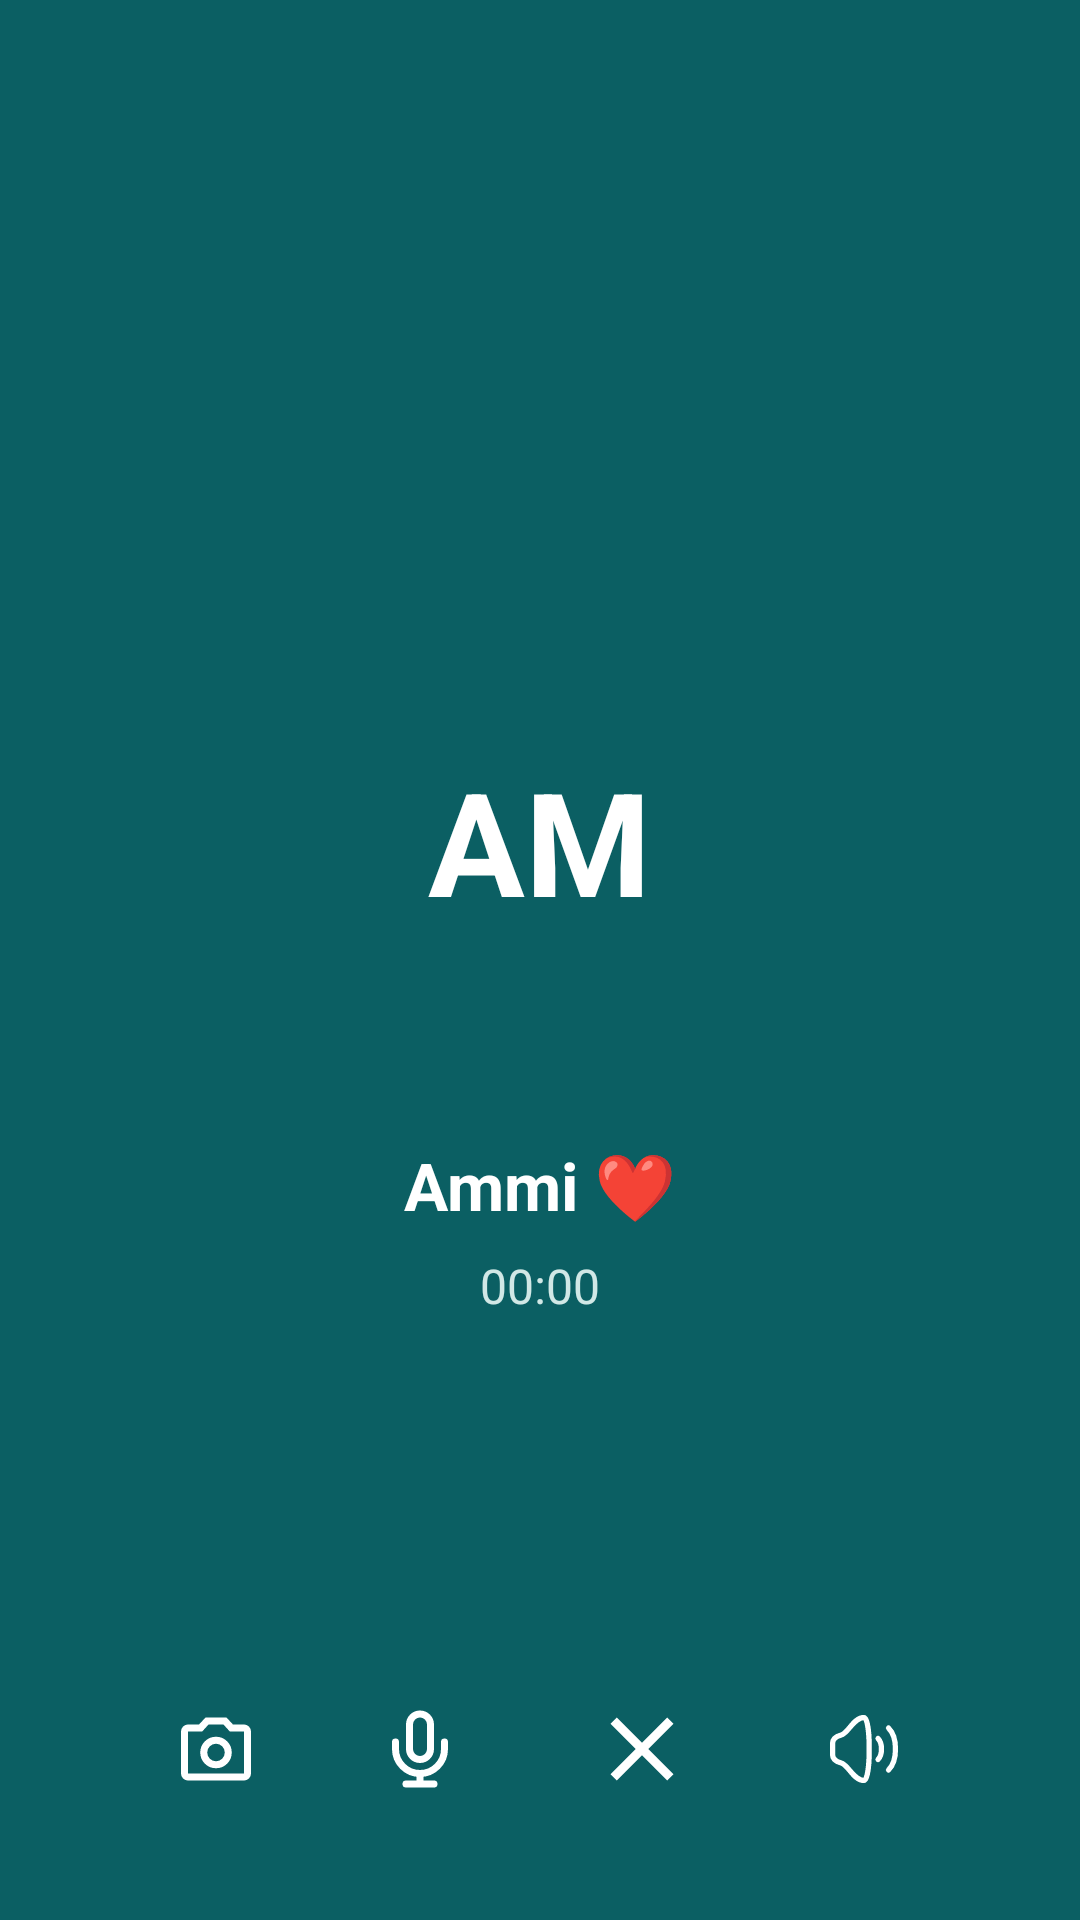

Point at icon controls on the screen. Image size 1080 × 1920, points as (x=x, y=y).
End Call: (x=642, y=1749)
Mute: (x=420, y=1749)
Speaker: (x=864, y=1749)
Video: (x=216, y=1749)
